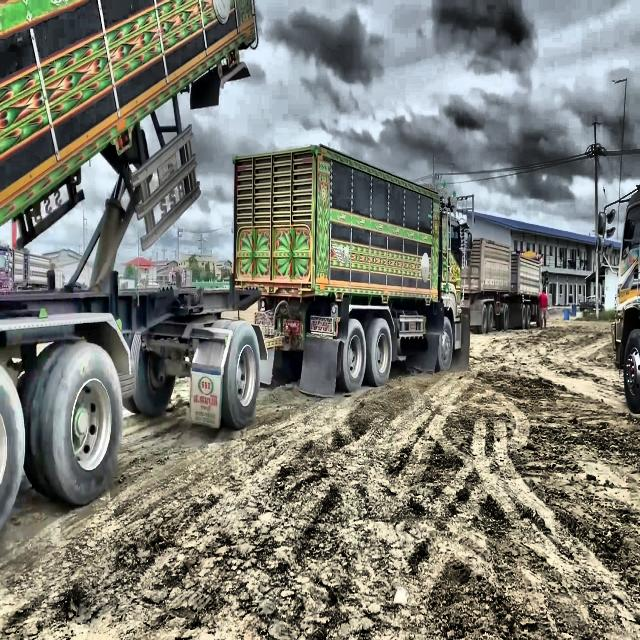trailer: (0, 2, 465, 541), (434, 234, 547, 328)
